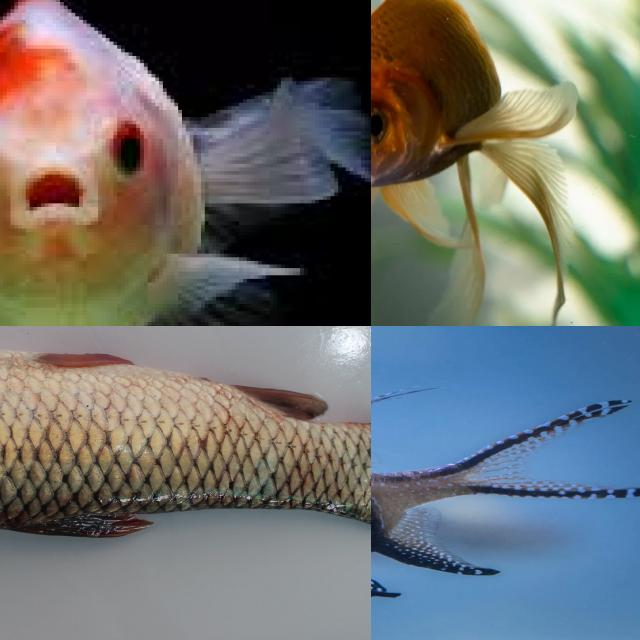fish: (0, 0, 371, 326), (0, 332, 371, 578), (371, 383, 592, 569)
